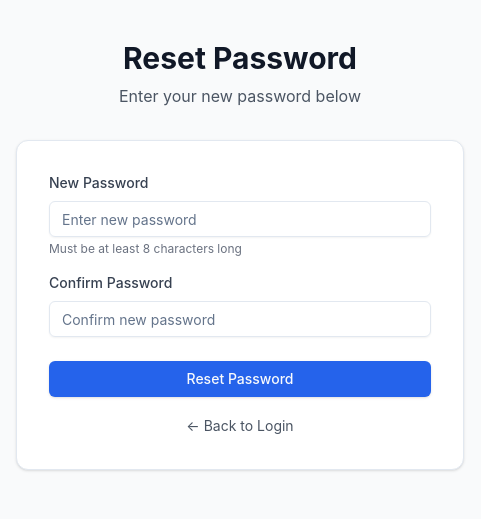
ResetPasswordPage - Form Validation › should show error when password is too short
This screenshot has width=481, height=519.
Type "short" into the password field with test id "password-input" at (240, 219), box [49, 201, 431, 237]
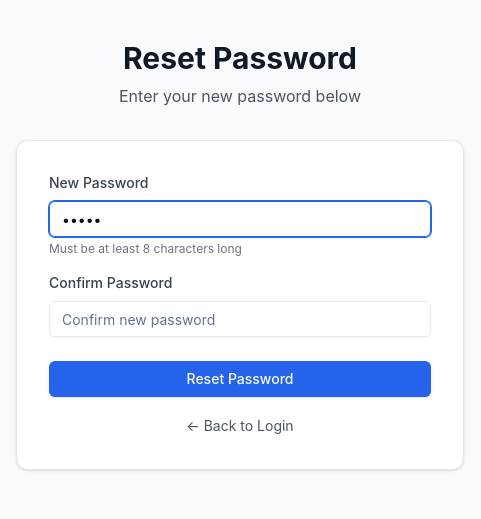
Type "short" into the password field with test id "confirm-password-input" at (240, 319), box [49, 301, 431, 337]
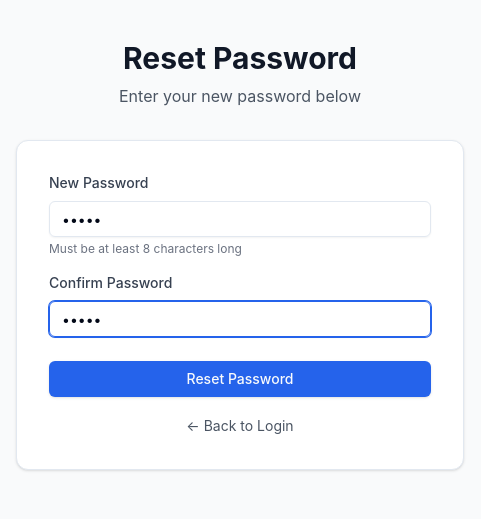
Click the button with test id "submit-button" at (240, 379), box [49, 361, 431, 397]
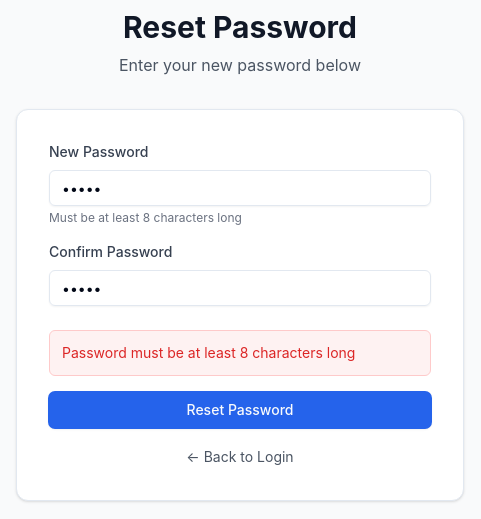
Expected: the text "Password must be at least 8 characters long" is shown, [62, 344, 355, 361]
